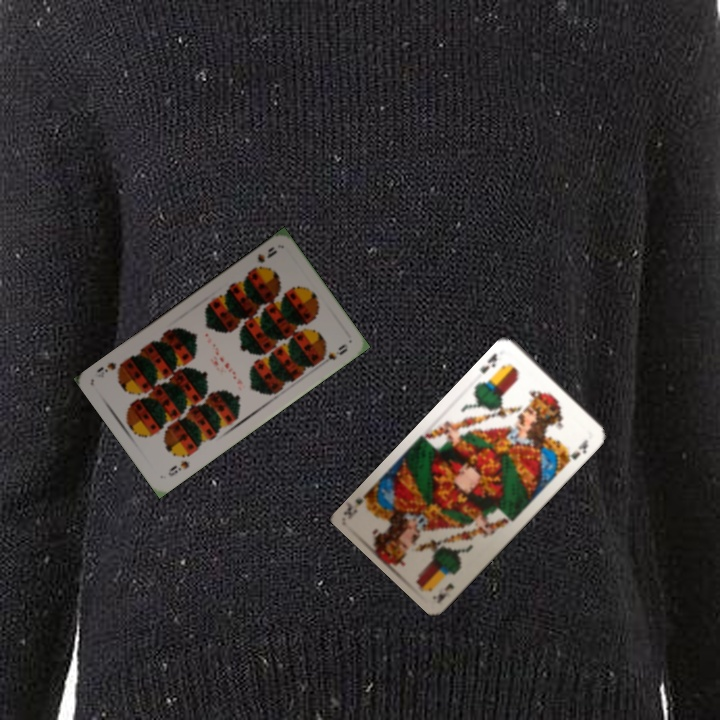EK: (476, 349, 500, 376), (433, 579, 457, 603)
S9: (246, 242, 280, 273), (164, 456, 192, 479)
